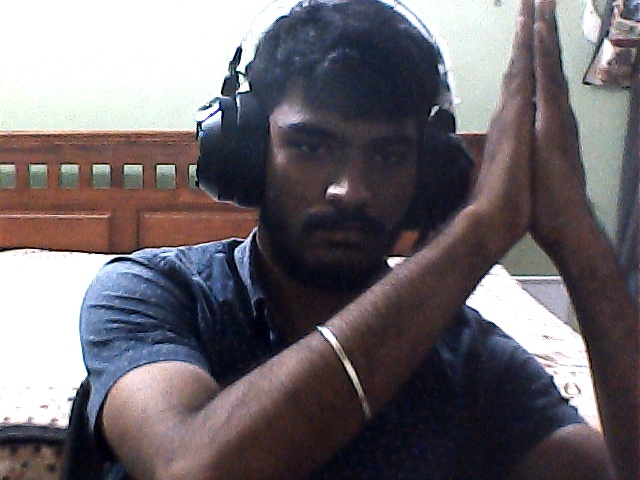Sign: (478, 5, 594, 271)
